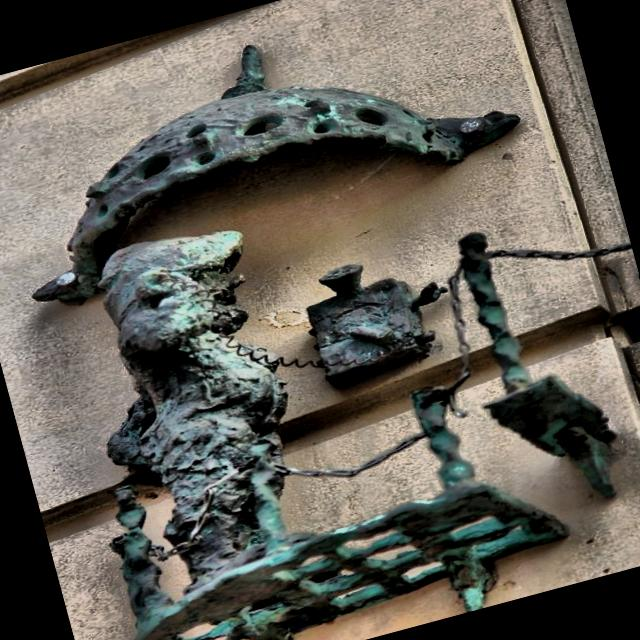Dryndek: (33, 47, 616, 640)
